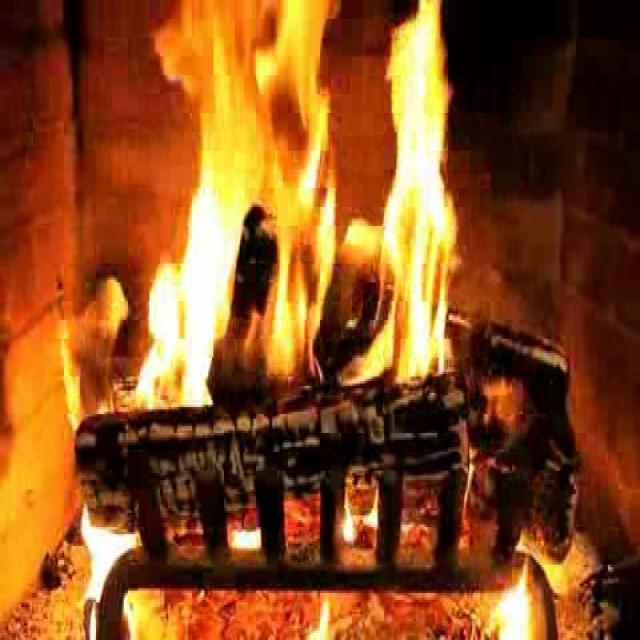Fire: (146, 9, 454, 402)
